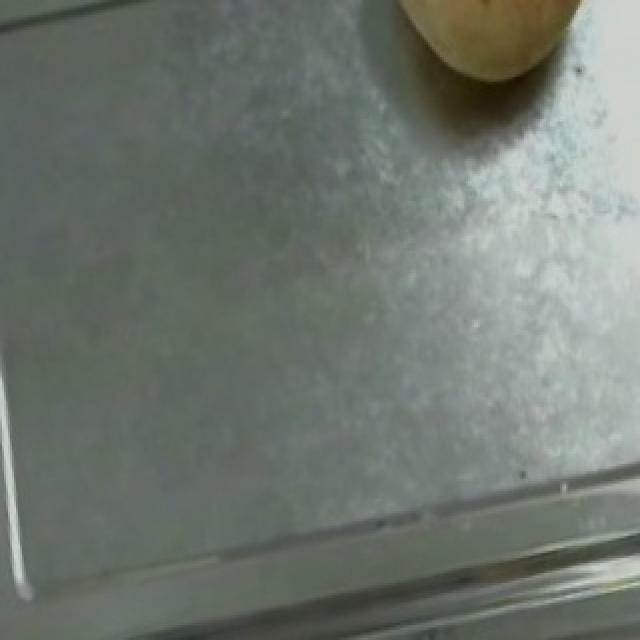Fruit: (356, 0, 618, 117)
